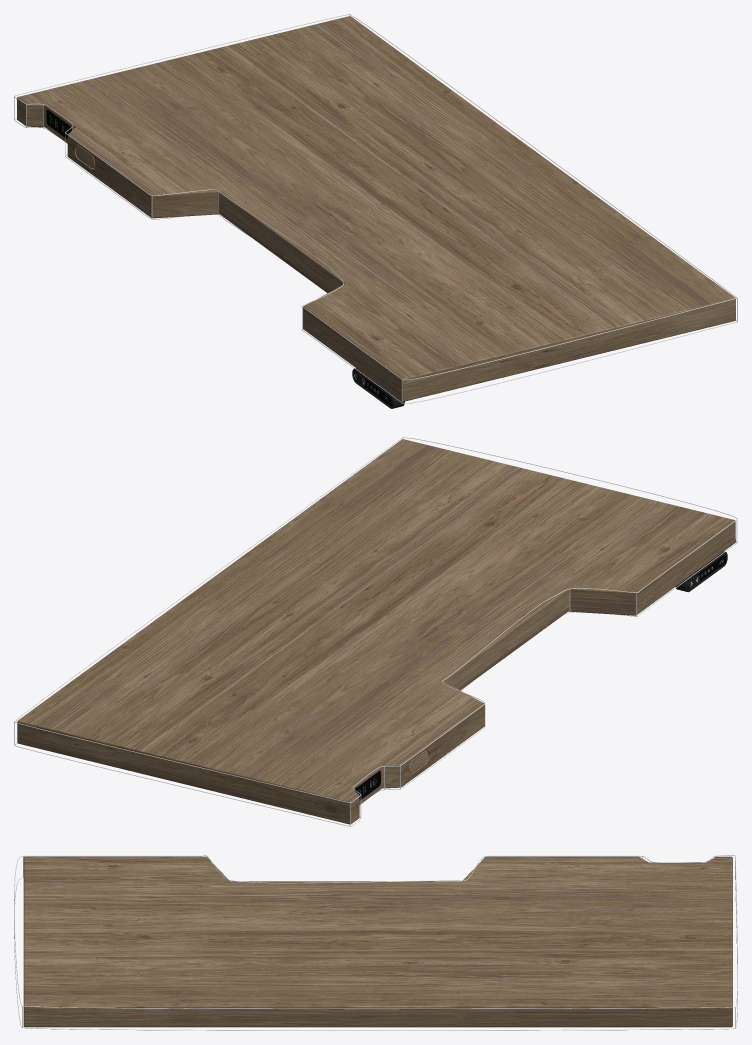
Rendered from table.glb.
3 views of the same model, one above another, from view 1: azimuth 30°, elevation 25°; view 2: azimuth 150°, elevation 25°; view 3: azimuth 270°, elevation 25° (orthographic). The views are drawn at different scales.
Visible parts, largest first — view 1: table, neon, panel; view 2: table, neon, panel; view 3: table, neon.
Part boxes in pixels (left/top/right/bottom): table: left=16, top=16, right=735, bottom=401; neon: left=14, top=14, right=737, bottom=403; panel: left=352, top=368, right=404, bottom=408; table: left=17, top=439, right=735, bottom=824; neon: left=14, top=437, right=737, bottom=826; panel: left=675, top=551, right=727, bottom=592; table: left=23, top=856, right=732, bottom=1027; neon: left=14, top=855, right=737, bottom=1030.
Bounding box in the file's own units: 6.1 × 0.6847 × 12.25.
Materials: 3 (3 with a texture image).
